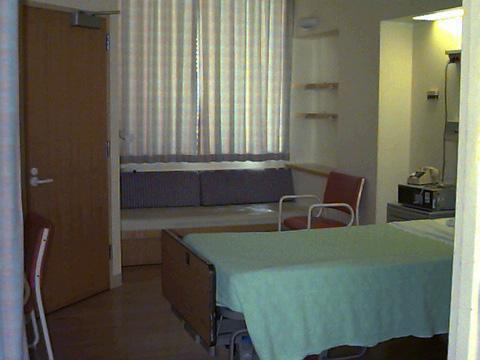Cama: (158, 203, 456, 348)
Puerta: (27, 9, 111, 299)
Ventana: (118, 6, 288, 158)
